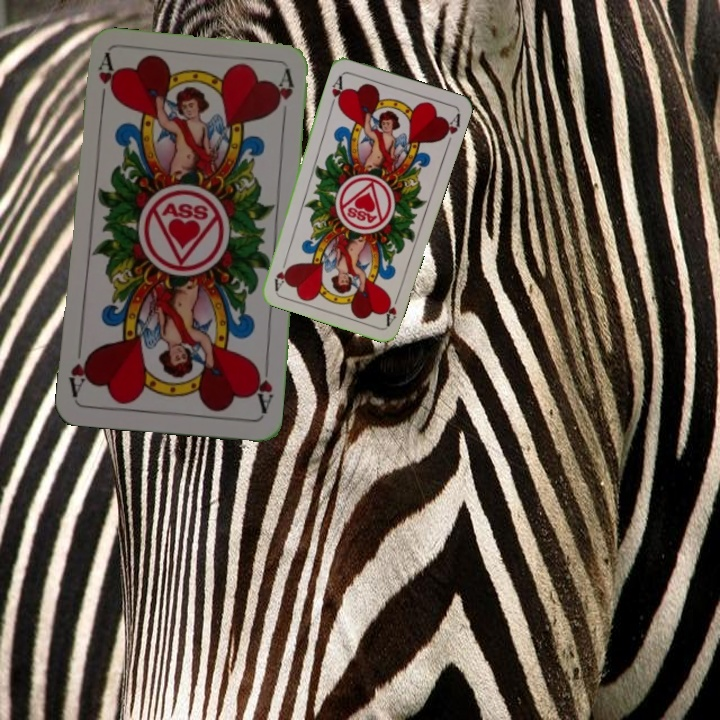HA: (249, 358, 276, 417), (94, 51, 119, 111), (379, 288, 403, 328), (326, 71, 347, 110)
